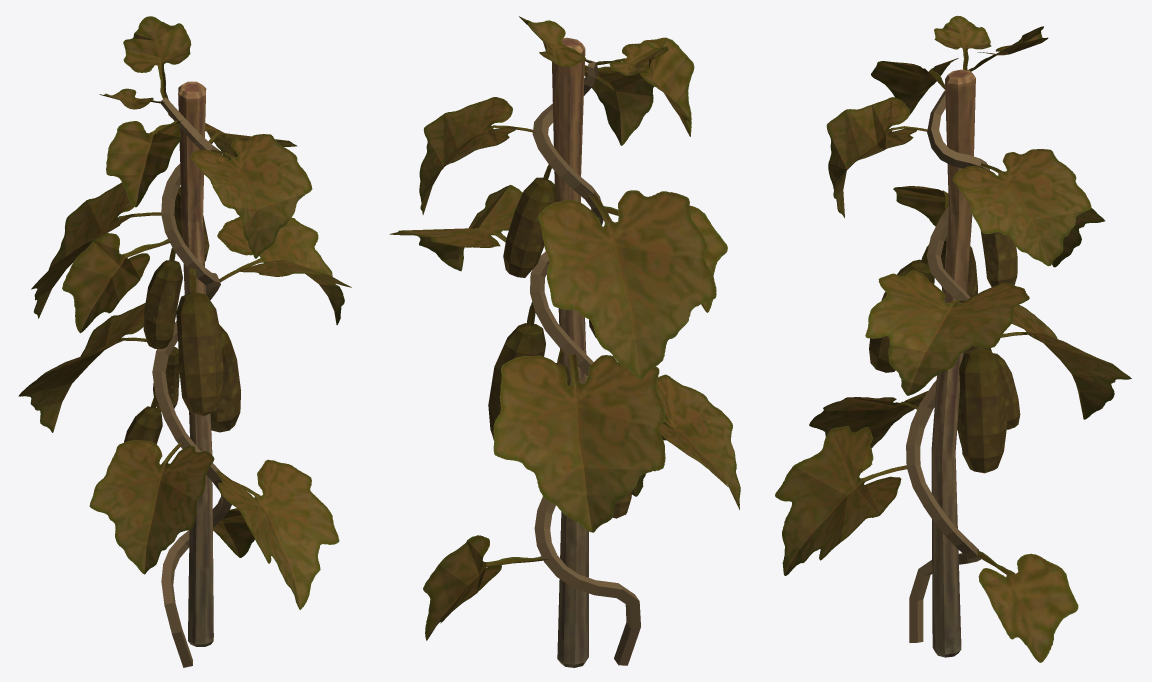
Rendered from Cucumber_04.obj.
The picture shows the model from 3 angles, left to right: view 1: azimuth 30°, elevation 25°; view 2: azimuth 150°, elevation 25°; view 3: azimuth 270°, elevation 25°; orthographic projection. The views are drawn at different scales.
Size of the model in its own units: 0.6354 by 1.24 by 0.6514.
Materials: 1 (1 with a texture image).
